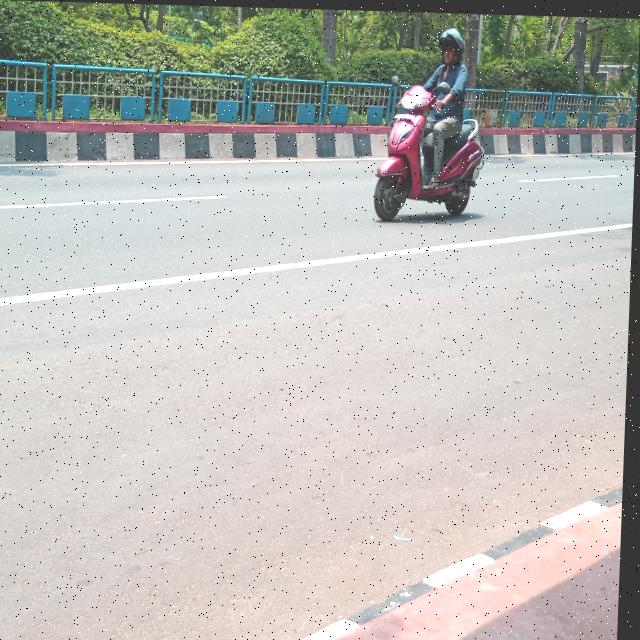bike: (374, 85, 488, 222)
